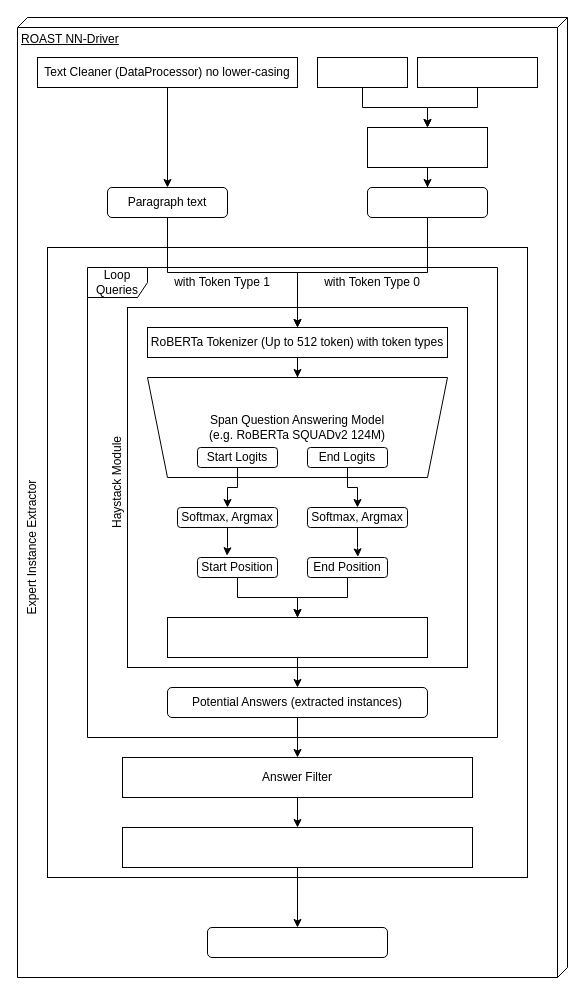
This 585x995 diagram has some shape labels left out. Here are the shapes that lost their labels. From the top down, the centre of each, then its label:
At (362,72): "Abstact Target".
At (477,72): "Abstact explanation".
At (427,147): "Question Generator".
At (427,202): "Queries".
At (297,637): "Answer Extractor from span".
At (297,847): "Instance Validator".
At (297,942): "Final List of instances".
